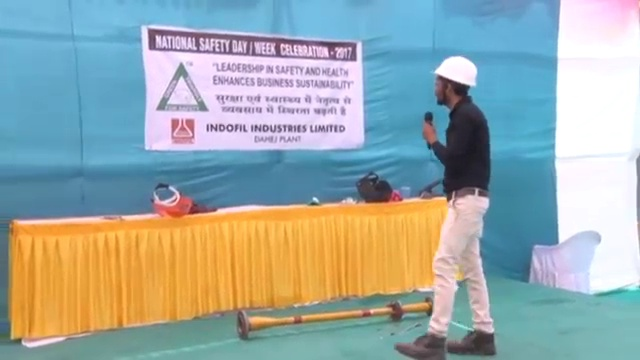helmet: (429, 55, 479, 89)
helmet_on: (428, 54, 480, 109)
person: (396, 53, 500, 357)
